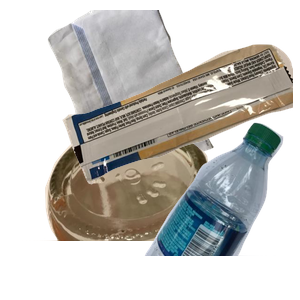glass: (22, 120, 233, 300)
paper: (45, 10, 251, 190)
plastic: (142, 120, 300, 300)
trash: (60, 42, 300, 219)
